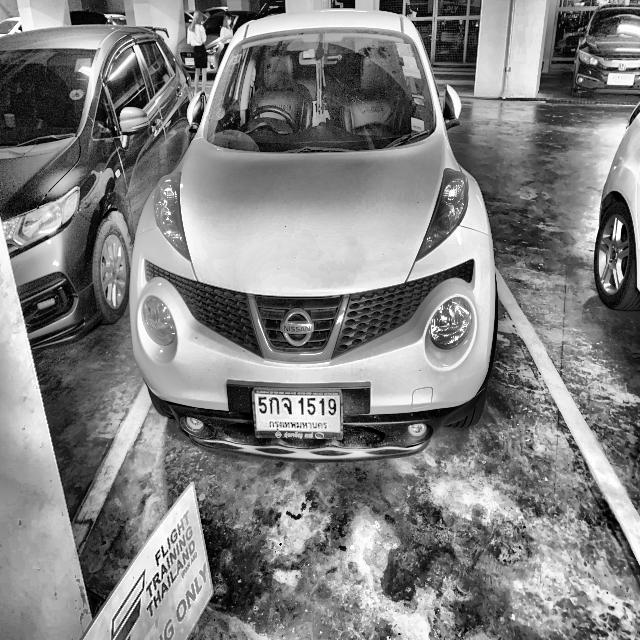license-plate: (249, 380, 348, 444)
